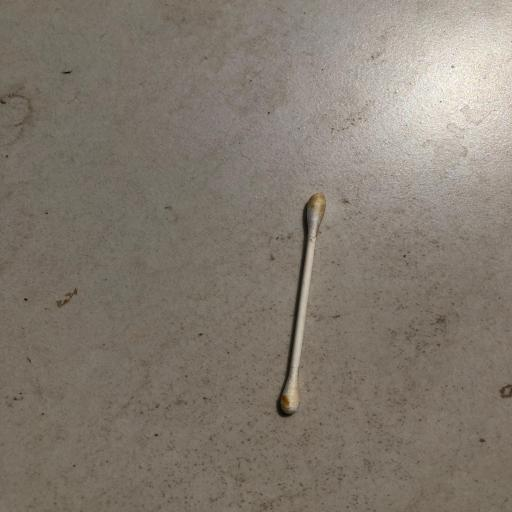waste: (269, 189, 344, 422)
